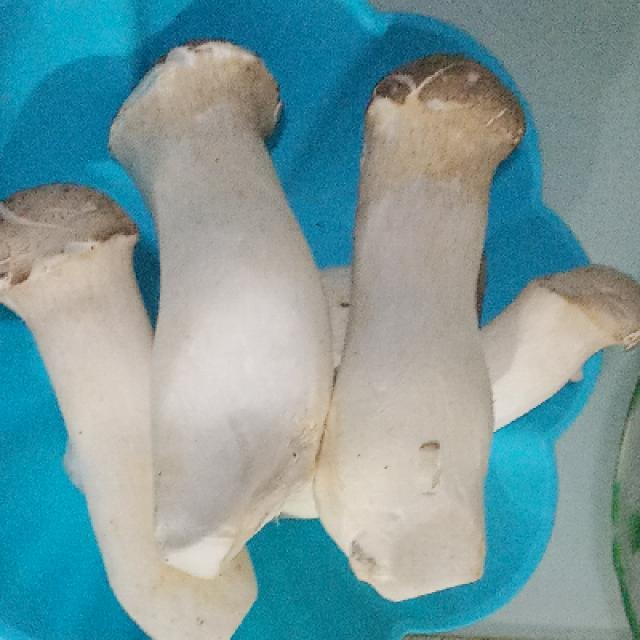Pleurotus eryngii: (313, 54, 529, 603), (0, 183, 258, 639), (114, 41, 332, 579)
